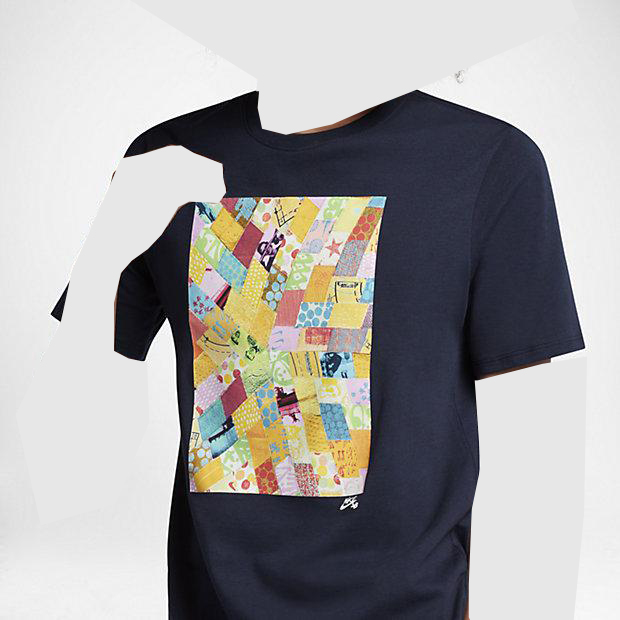teeshirt: (51, 90, 592, 620)
